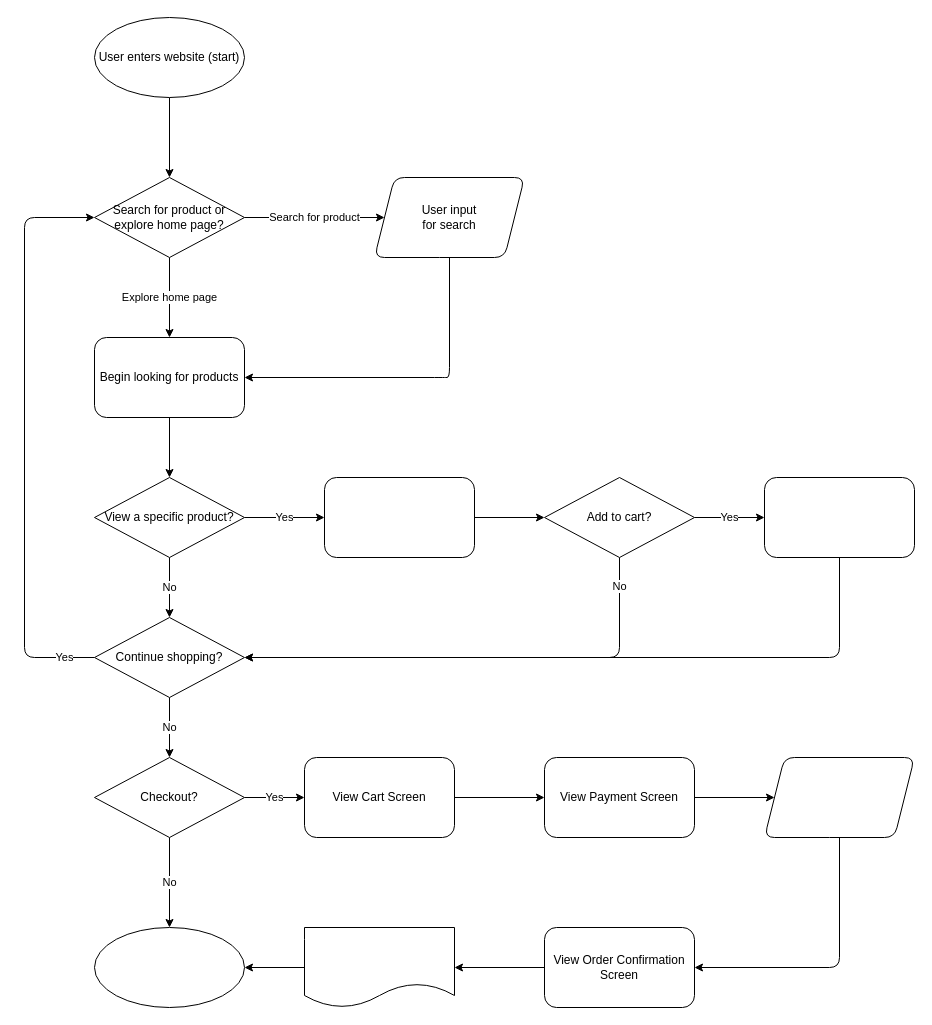
This 932x1025 diagram has some shape labels left out. The shapes that lost their labels are listed below. From the top down, each one's centre as x and y in pixels, then its label:
At (399,517): "Open product webpage".
At (839,517): "Added to cart confirmation".
At (839,797): "Input payment information".
At (169,967): "Leave website (Stop)".
At (379,967): "Send confirmation e-mail".
